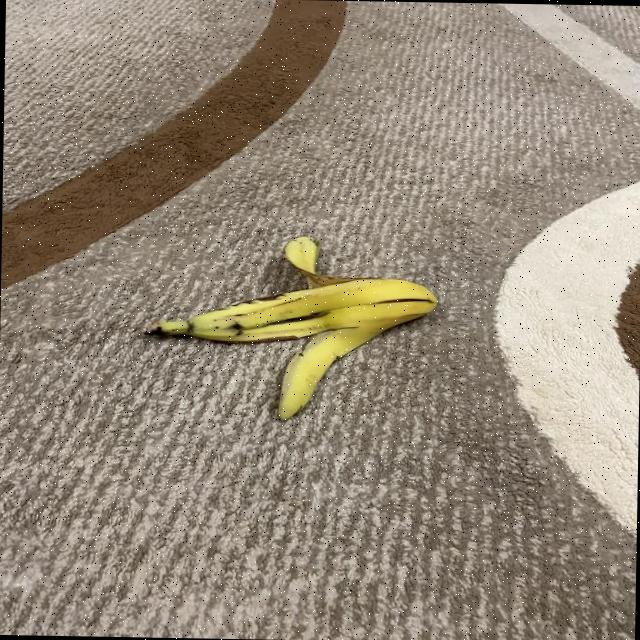banana-peel: (140, 232, 438, 423)
